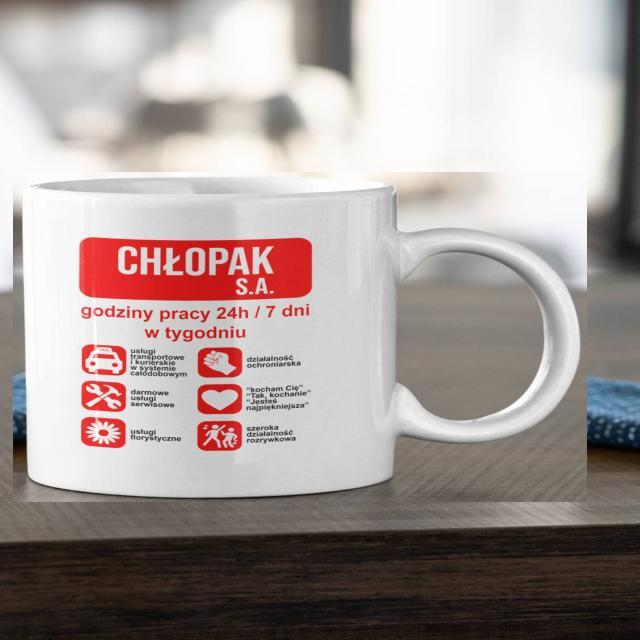Coffee Mug: (24, 171, 580, 495)
